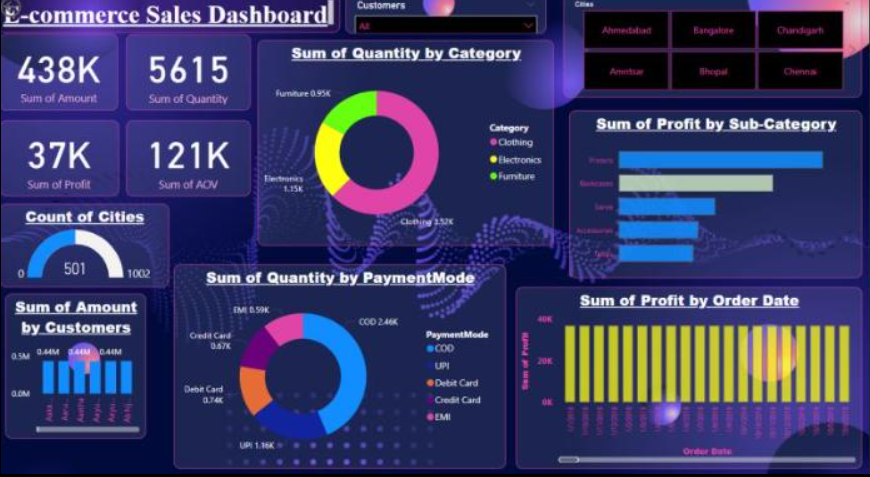

The dashboard page shown, as its layout file describes it:
{"tool":"powerbi","page":{"name":"Page 1","canvas":[1280,720],"ordinal":0},"visuals":[{"type":"textbox","box":[0,0,503.1,57.9],"z":0},{"type":"columnChart","fields":{"Category":["Orders.Column2"],"Y":["Sum(Details.Profit)"]},"box":[761.3,433.1,507.9,267.8],"z":1000},{"type":"barChart","fields":{"Category":["Details.Sub-Category"],"Y":["Sum(Details.Profit)"]},"box":[839.7,172.5,429.5,247.3],"z":2000},{"type":"donutChart","fields":{"Category":["Details.Category"],"Y":["Sum(Details.Quantity)"]},"box":[382.4,68.8,434.3,302.8],"z":3000},{"type":"donutChart","fields":{"Category":["Details.PaymentMode","Details.Category"],"Y":["Sum(Details.Quantity)"]},"box":[259.4,399.3,487.4,301.6],"z":4000},{"type":"card","fields":{"Values":["Sum(Details.Amount)"]},"box":[3.6,59.1,173.7,113.4],"z":5000},{"type":"card","fields":{"Values":["Sum(Details.Quantity)"]},"box":[189.4,60.3,182.2,112.2],"z":6000},{"type":"card","fields":{"Values":["Sum(Details.Profit)"]},"box":[3.6,187,174.9,112.2],"z":7000},{"type":"card","fields":{"Values":["Sum(Details.AOV)"]},"box":[189.4,187,182.2,112.2],"z":8000},{"type":"gauge","title":"Count of Cities","fields":{"Y":["CountNonNull(Orders.Column2)"]},"box":[3.6,310.1,248.5,123.1],"z":9000},{"type":"columnChart","fields":{"Category":["Orders.Column3"],"Y":["Sum(Details.Amount)"]},"box":[12.1,442.8,206.3,213.5],"z":10000},{"type":"slicer","fields":{"Values":["Orders.Column5"]},"box":[831.2,0,437.9,153.2],"z":11000},{"type":"actionButton","box":[0,0,100,40],"z":12000},{"type":"slicer","fields":{"Values":["Orders.Column3"]},"box":[511.5,0,294.4,59.1],"z":13000}]}

Visuals, with their boxes in screenshot pixels (x1, y1, x2, y2), scaled from the page's 1280x720 canvas onto the 870x477 screenshot:
textbox: 0 0 342 38
columnChart - Orders.Column2 x Sum(Details.Profit): 517 287 863 464
barChart - Details.Sub-Category x Sum(Details.Profit): 571 114 863 278
donutChart - Details.Category x Sum(Details.Quantity): 260 46 555 246
donutChart - Details.PaymentMode x Details.Category: 176 265 508 464
card - Sum(Details.Amount): 2 39 121 114
card - Sum(Details.Quantity): 129 40 253 114
card - Sum(Details.Profit): 2 124 121 198
card - Sum(Details.AOV): 129 124 253 198
"Count of Cities" gauge: 2 205 171 287
columnChart - Orders.Column3 x Sum(Details.Amount): 8 293 148 435
slicer - Orders.Column5: 565 0 863 101
actionButton: 0 0 68 26
slicer - Orders.Column3: 348 0 548 39
